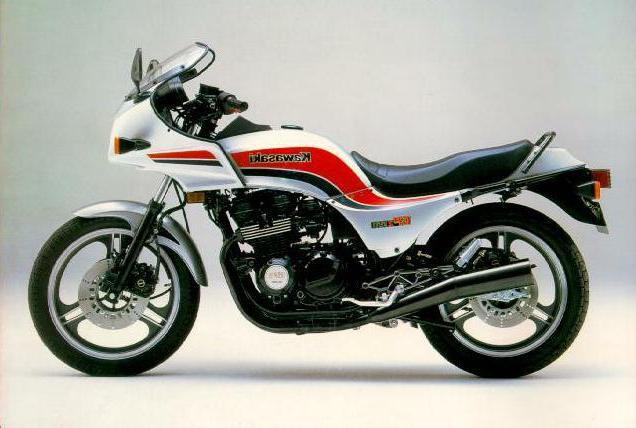motorcycle: (18, 24, 624, 394)
